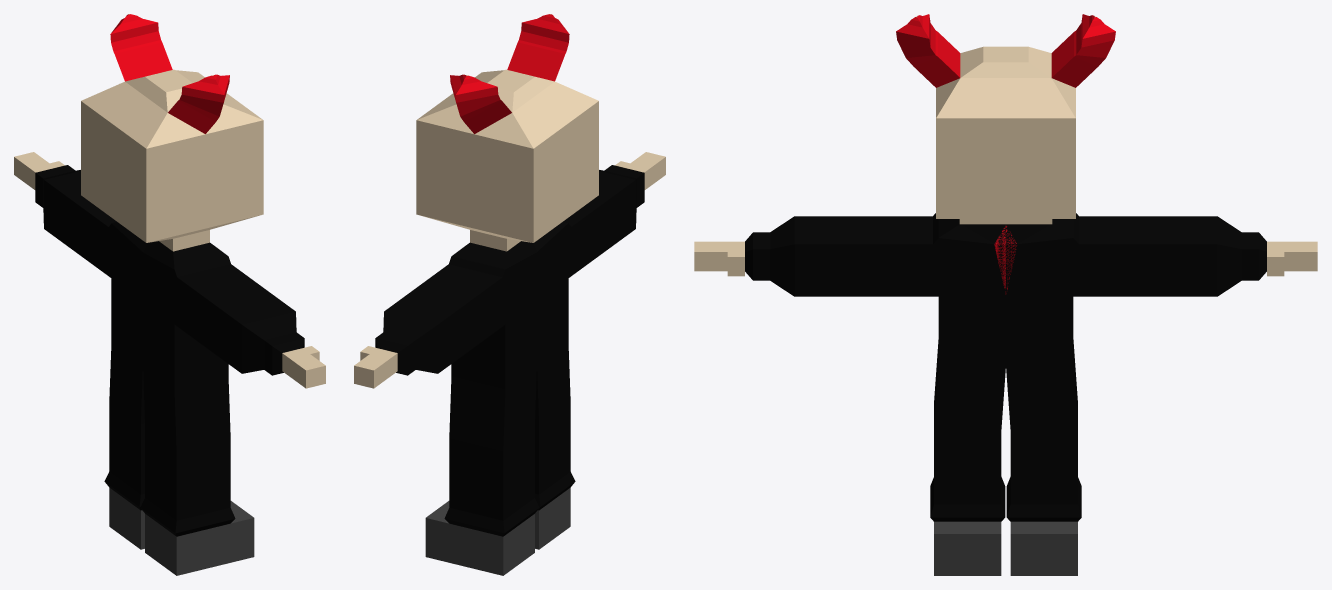
The picture shows the model from 3 angles, left to right: view 1: azimuth 30°, elevation 25°; view 2: azimuth 150°, elevation 25°; view 3: azimuth 270°, elevation 25°; orthographic projection. The views are drawn at different scales.
Parts seen in each view (by area): view 1: Cube; view 2: Cube; view 3: Cube.
Part boxes in pixels (bbox=[...]): Cube: bbox=[14, 14, 325, 575]; Cube: bbox=[354, 14, 665, 575]; Cube: bbox=[694, 14, 1317, 575].
Bounding box in the file's own units: 215 × 873 × 925.
